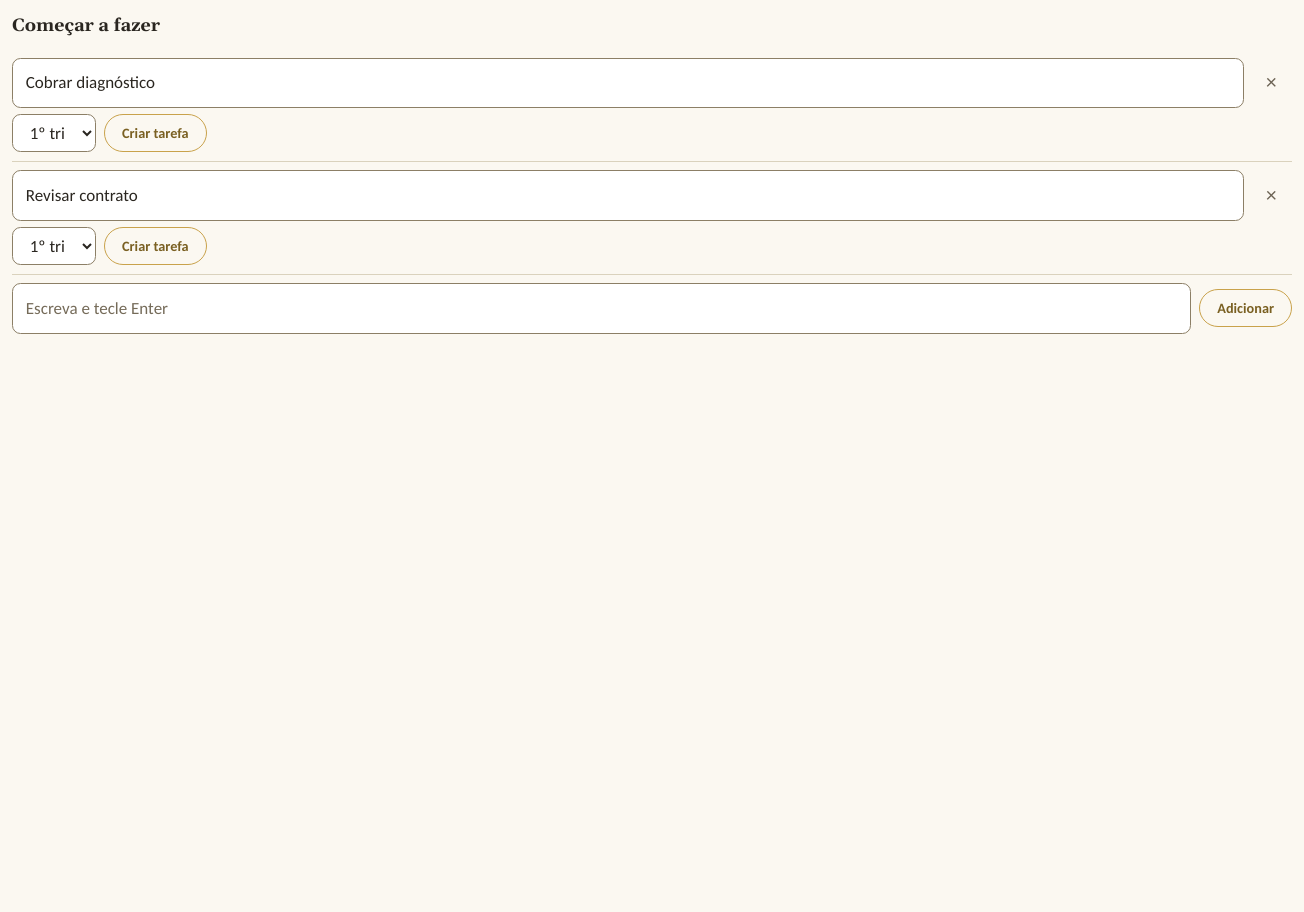
edição feita enquanto a tarefa é criada não se perde
Click the button with aria-label "Criar tarefa: Cobrar diagnóstico" at (155, 133), box x1=104 y1=114 x2=207 y2=152
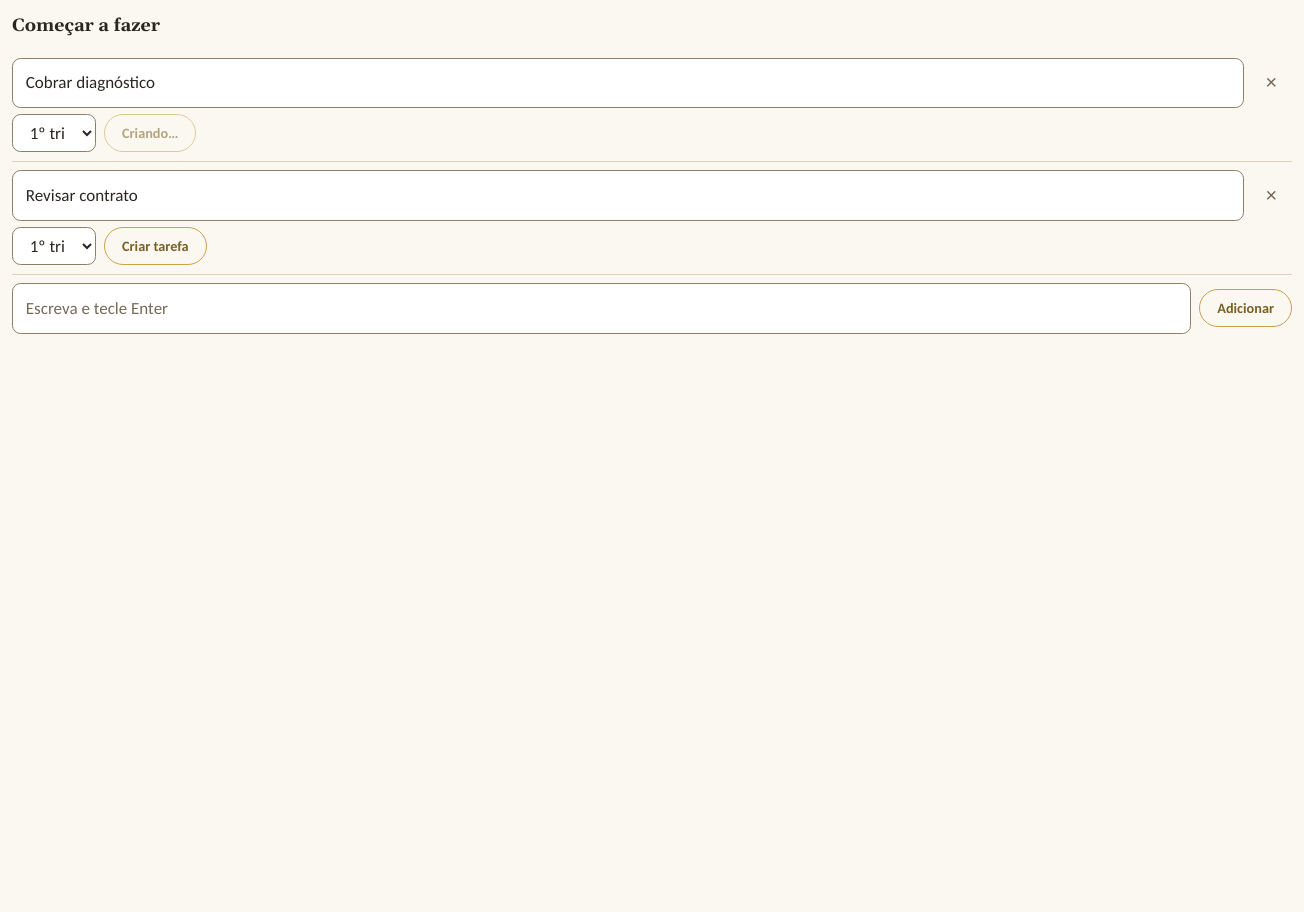
Replace the text in the field named "Começar a fazer, item 2" with "Revisar contrato social" at (628, 196), box x1=12 y1=170 x2=1244 y2=221
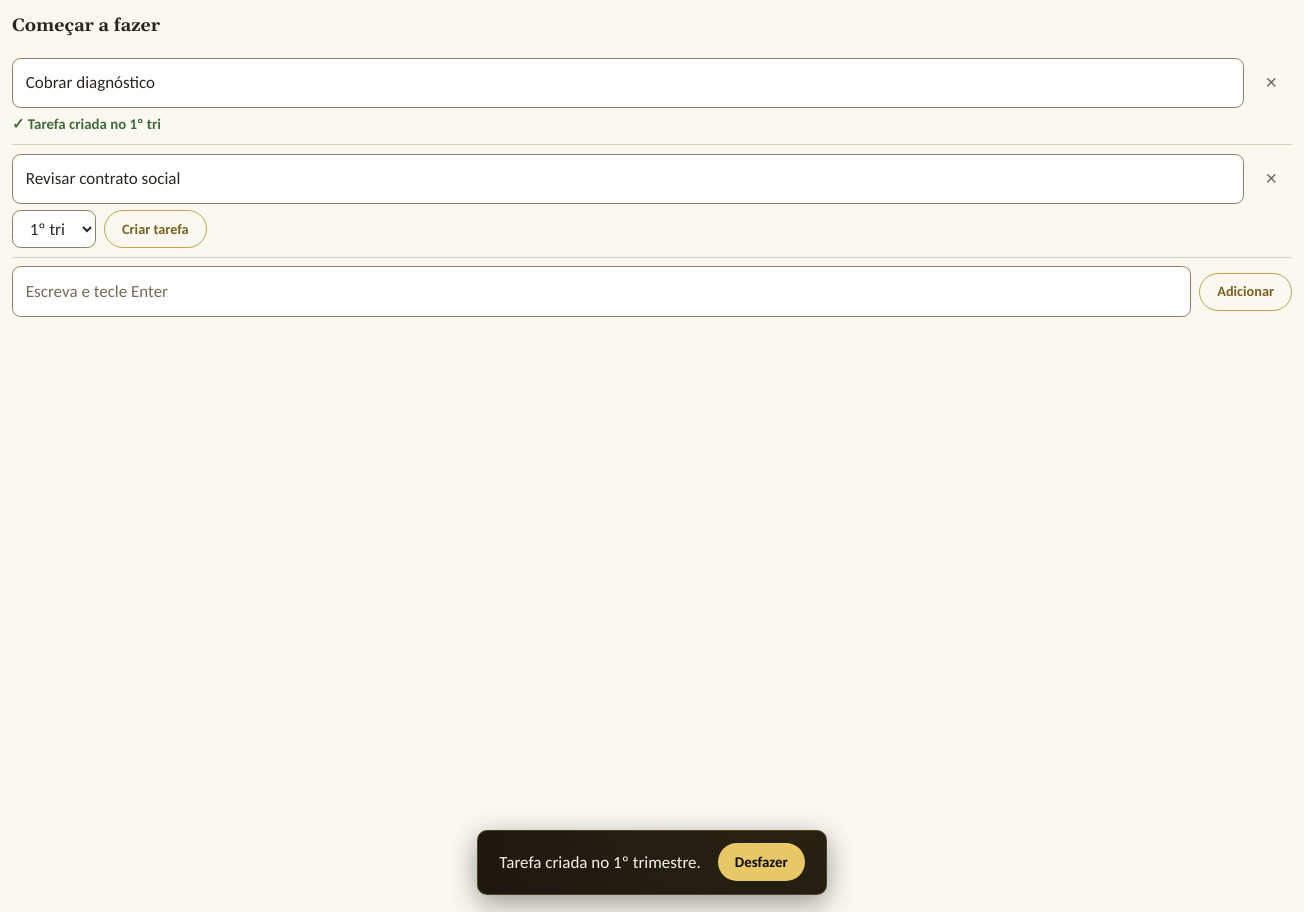
Result: the text "✓ Tarefa criada no 1º tri" is shown at x1=12 y1=114 x2=161 y2=136
